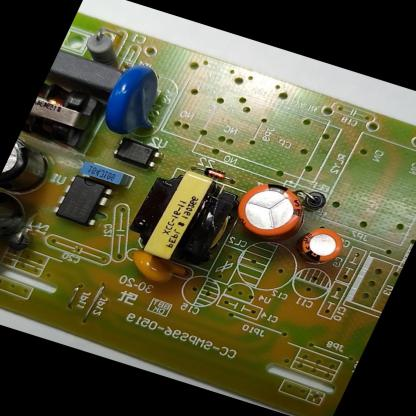Cap1: (227, 174, 311, 244)
Cap2: (292, 222, 350, 268)
Cap3: (0, 135, 60, 201)
Cap4: (0, 188, 41, 262)
MOSFET: (49, 171, 118, 232)
Mov: (89, 55, 174, 144)
Resistor: (78, 27, 132, 67)
Transformer: (119, 160, 242, 275), (21, 76, 109, 152)
